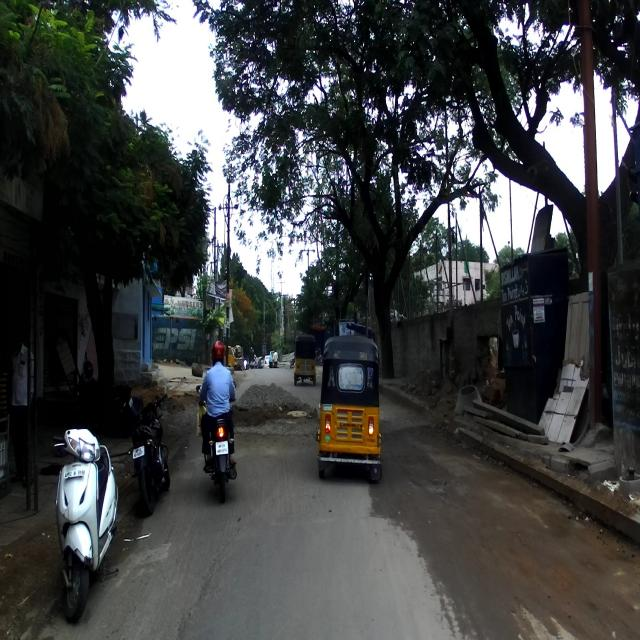autorickshaw: (316, 334, 382, 484)
motorcycle: (128, 392, 170, 516), (194, 379, 235, 503), (77, 372, 137, 437)
scooter: (53, 425, 119, 623)
